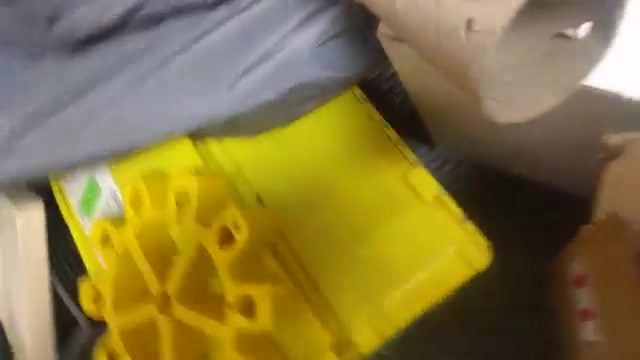gear: (40, 153, 304, 360)
